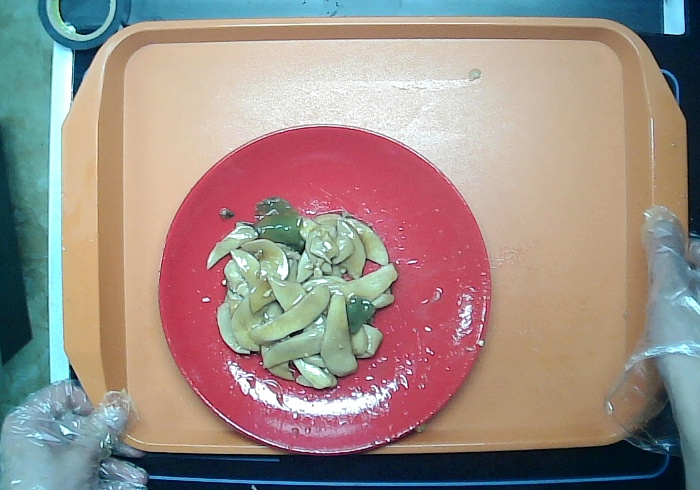HZYJPL-Hong_Se_Yuan_Pan: (154, 120, 491, 456)
